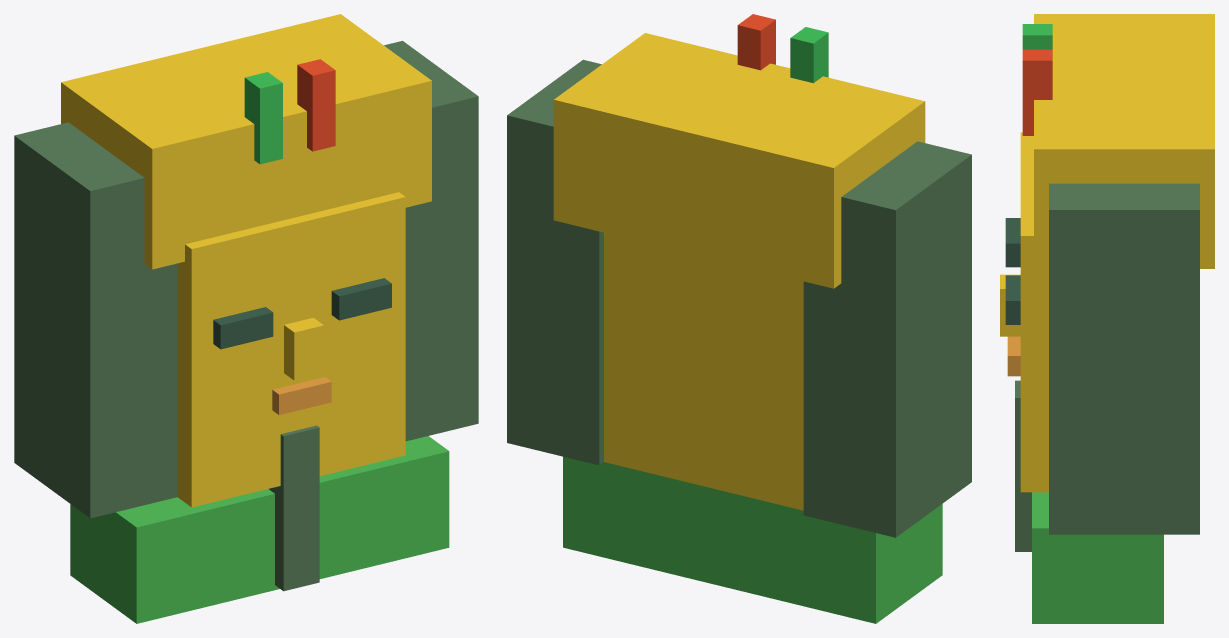
File: golden_mask.glb
3 renders of one model, left to right at view 1: azimuth 30°, elevation 25°; view 2: azimuth 150°, elevation 25°; view 3: azimuth 270°, elevation 25°, orthographic.
Size of the model in its own units: 1.18 by 1.48 by 0.57.
